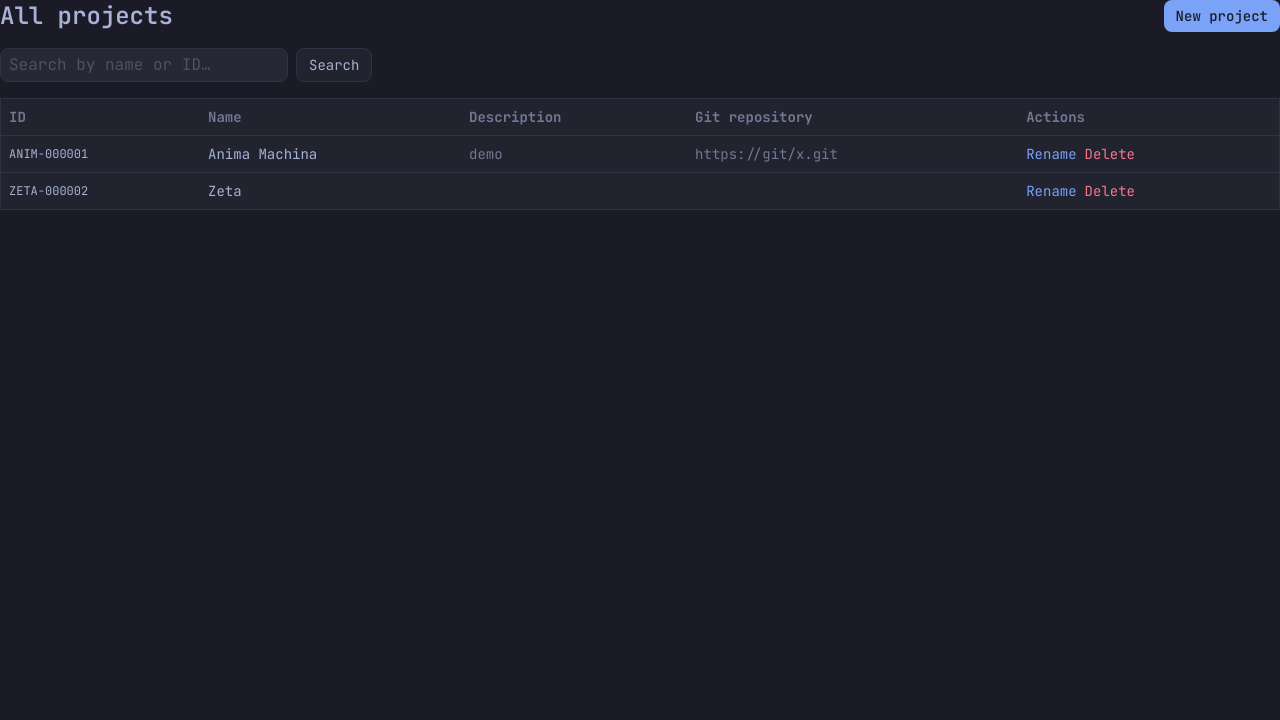
ProjectsPage › shows an error banner when the delete fails
Click the button "Delete" in the row of "ZETA-000002".
click(1110, 191)  # box [1085,181,1135,201]
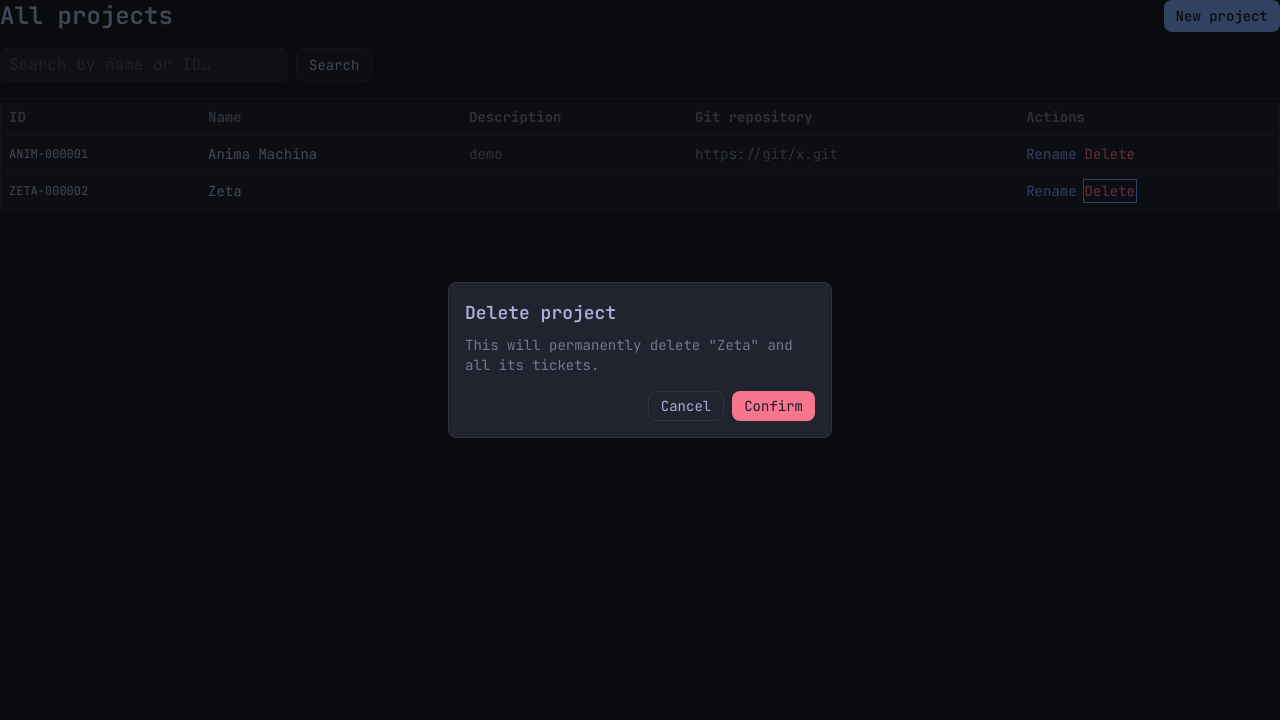
Click the button "Confirm".
click(774, 406)  # box [732,391,815,421]
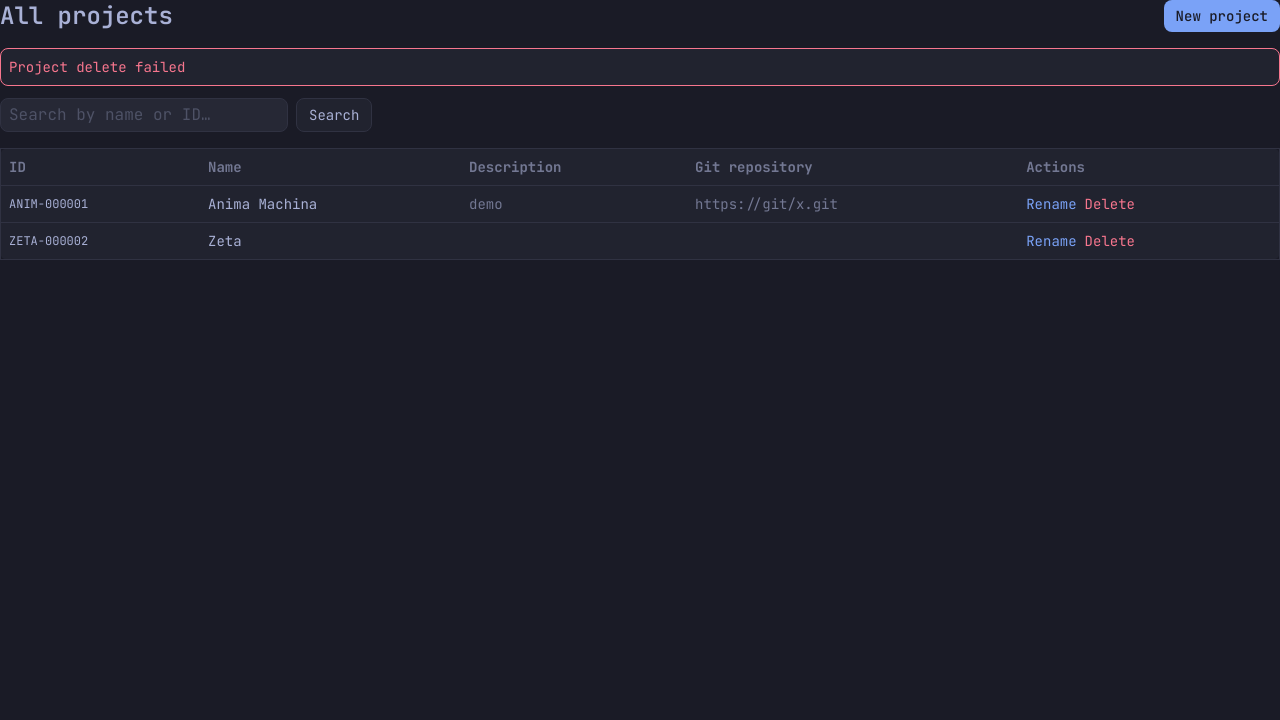
Expected: the text "Project delete failed" is shown, [0,48,1279,86]
Expected: the button "Confirm" is gone
